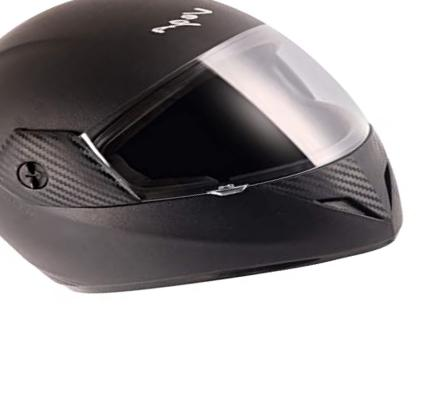helmet: (1, 2, 423, 342)
